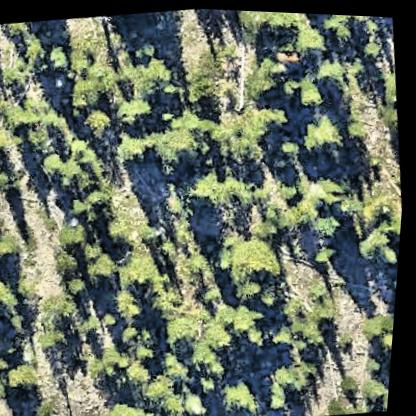tree-top: (97, 32, 180, 130), (147, 103, 218, 175), (220, 224, 291, 284), (293, 106, 351, 160), (285, 248, 332, 304), (230, 8, 312, 38), (221, 368, 271, 416), (119, 237, 169, 285), (274, 349, 318, 395), (210, 119, 258, 159), (185, 167, 228, 209), (225, 170, 271, 209), (309, 205, 351, 242), (293, 23, 331, 62), (6, 361, 47, 397), (68, 75, 110, 110), (324, 11, 370, 42), (160, 346, 198, 383), (203, 318, 242, 354), (167, 318, 203, 356), (246, 63, 285, 98), (0, 260, 24, 315), (222, 300, 258, 336), (82, 102, 119, 137), (313, 172, 351, 206), (88, 253, 127, 286), (5, 104, 44, 137), (296, 71, 331, 107), (316, 48, 349, 86), (147, 289, 185, 321), (145, 371, 180, 404), (258, 105, 296, 135), (360, 226, 397, 256), (116, 291, 146, 327), (126, 357, 157, 391), (314, 294, 345, 328), (62, 269, 97, 299), (59, 222, 92, 253), (120, 128, 150, 162), (57, 160, 89, 190), (0, 235, 29, 268), (369, 304, 399, 335), (68, 45, 97, 77), (195, 369, 225, 399), (43, 41, 71, 73), (345, 115, 372, 146), (277, 132, 307, 158), (266, 386, 297, 410), (106, 215, 131, 244), (197, 343, 224, 369), (42, 148, 68, 174), (170, 391, 196, 416), (358, 201, 383, 226), (379, 241, 403, 267), (249, 325, 273, 350), (373, 375, 395, 402), (0, 134, 19, 160), (284, 177, 306, 199), (120, 403, 151, 416), (383, 327, 398, 352)
